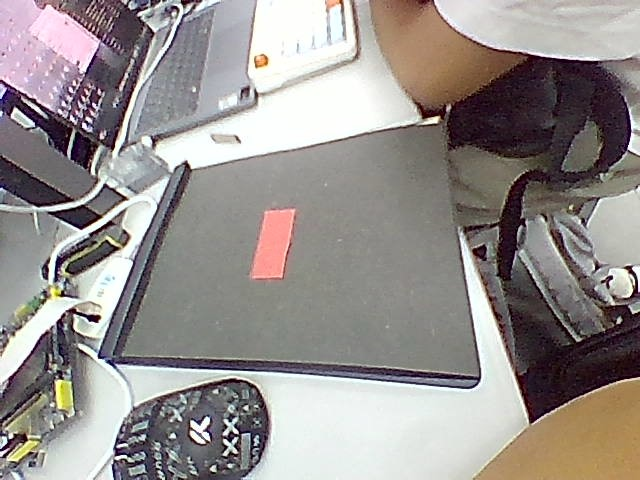card: (253, 209, 294, 279)
